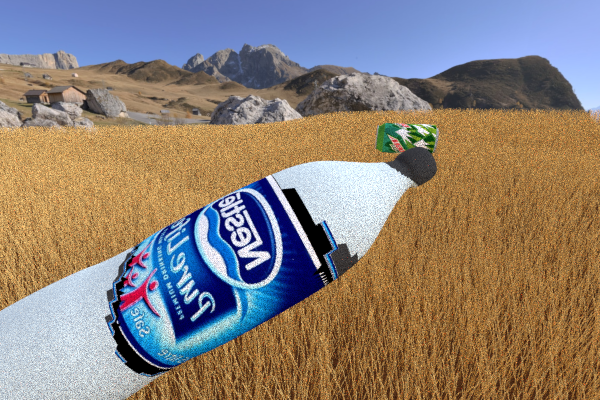Plastic Bottle: (0, 146, 436, 400), (375, 122, 438, 155)
